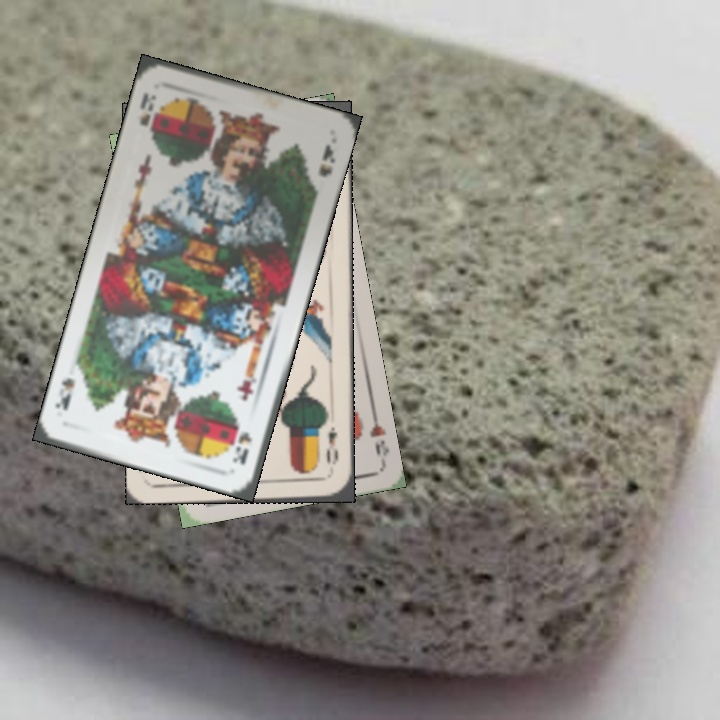EO: (322, 422, 341, 467)
H9: (365, 406, 392, 459)
SK: (135, 88, 161, 144), (228, 428, 255, 468)
